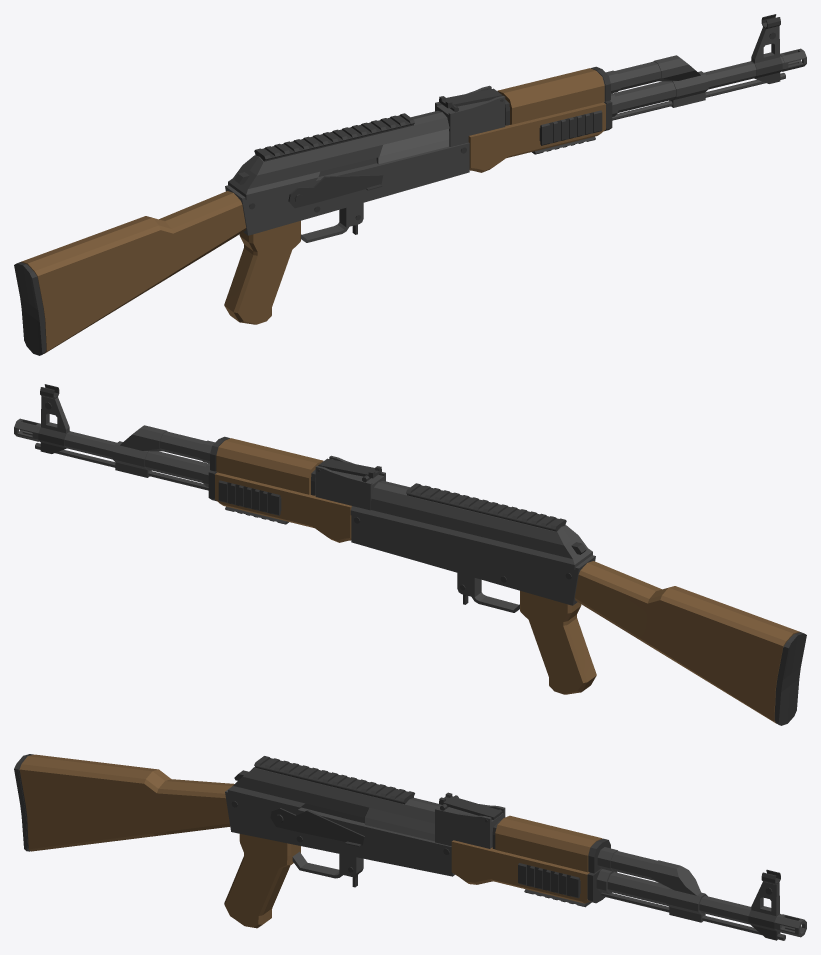
Rendered from AssaultRifle1_01.fbx.
3 renders of one model, top to bottom at view 1: azimuth 30°, elevation 25°; view 2: azimuth 150°, elevation 25°; view 3: azimuth 330°, elevation 25°, orthographic.
Parts seen in each view (by area): view 1: AssaultRifle1_01; view 2: AssaultRifle1_01; view 3: AssaultRifle1_01.
Part boxes in pixels (x1=…): AssaultRifle1_01: x1=14, y1=14, x2=806, y2=355; AssaultRifle1_01: x1=14, y1=384, x2=806, y2=725; AssaultRifle1_01: x1=14, y1=754, x2=806, y2=940.
Size of the model in its own units: 0.9618 by 0.2088 by 0.051.
